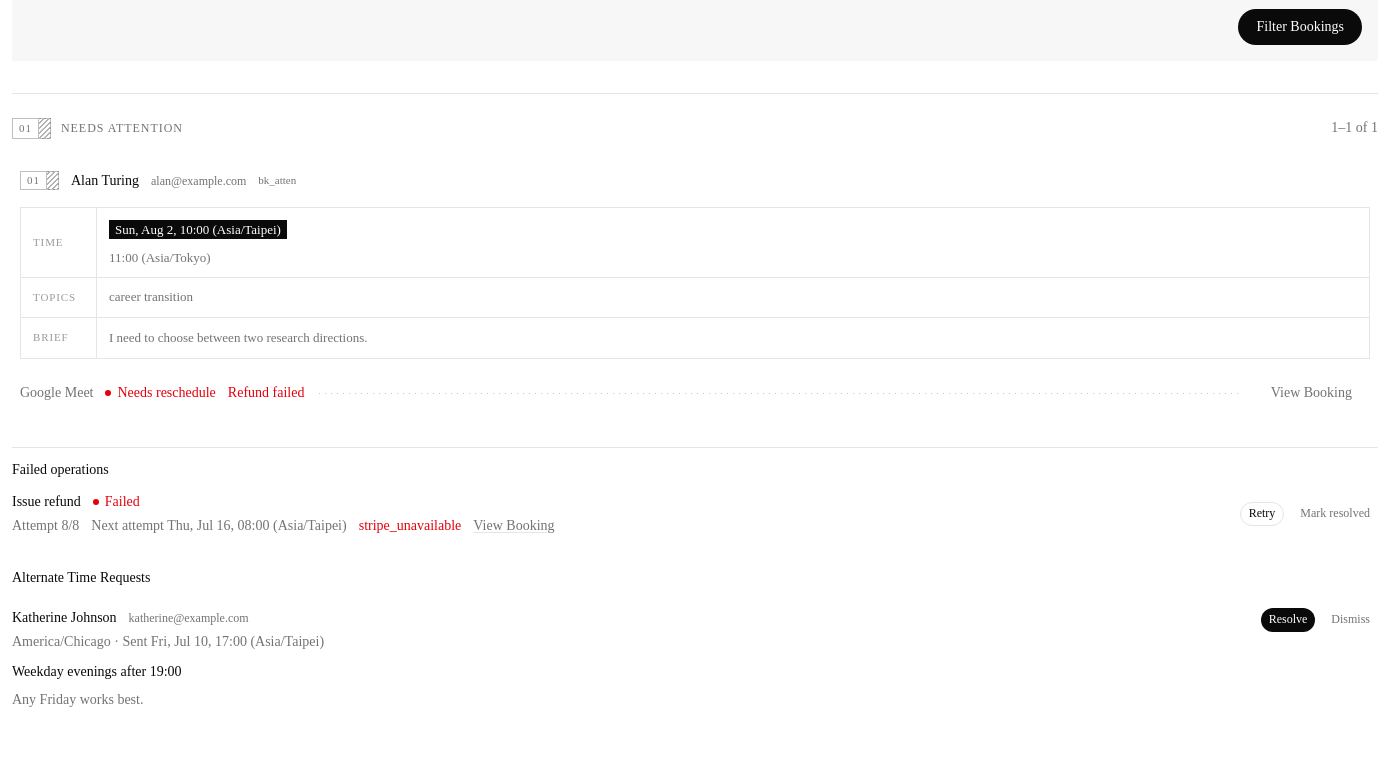
it: AMA admin page › retries a failed operation from the attention section
(page scrolled)
What coordinates should you click on to do the following:
click the button "Retry"
I would click on:
 (1262, 514)
Its box is [1240,502,1284,526].
(page scrolled)
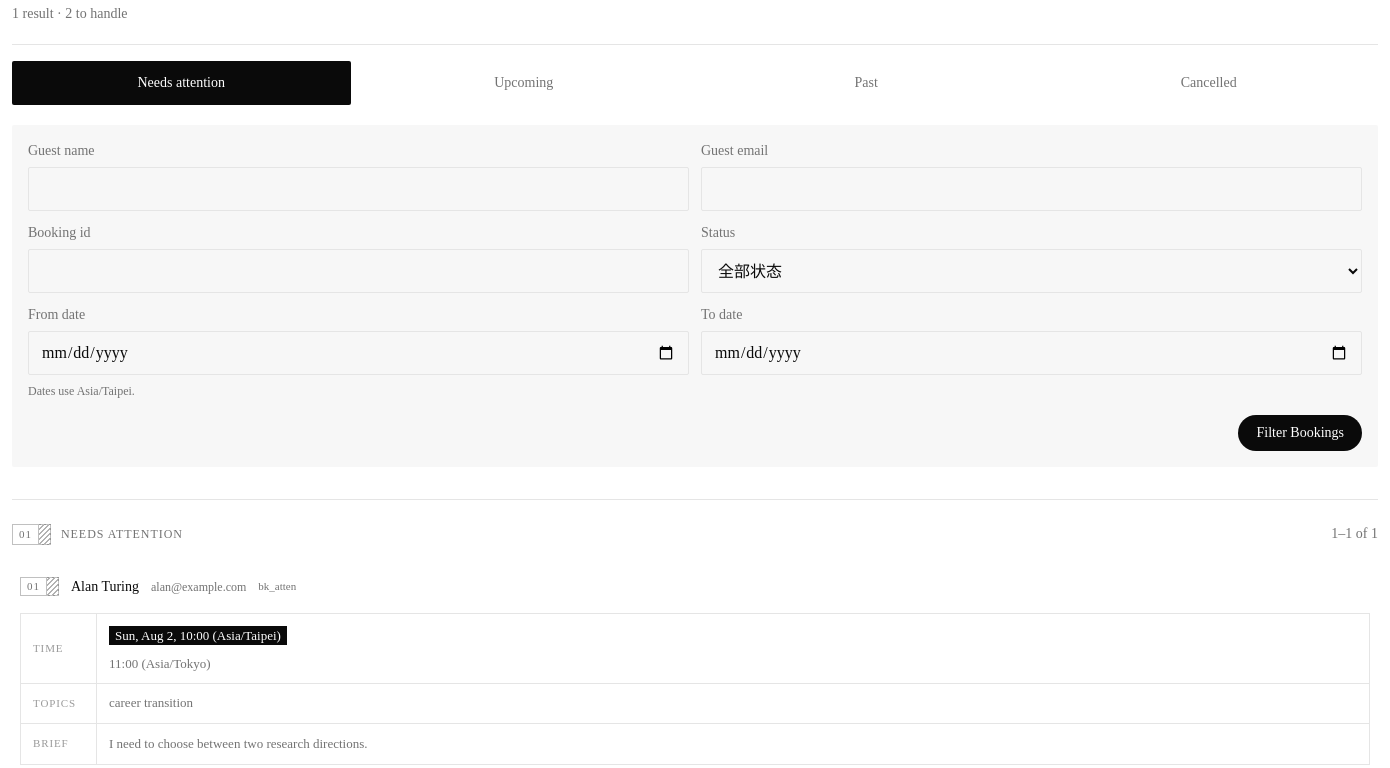
Expected: the text "stripe_unavailable" is gone
Expected: the text "1 result · 2 to handle" is shown, [12,6,128,21]
